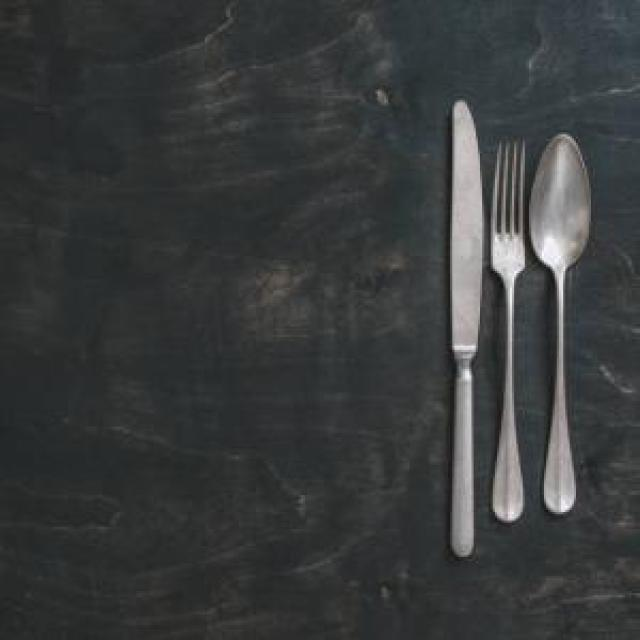knife: (446, 100, 485, 553)
